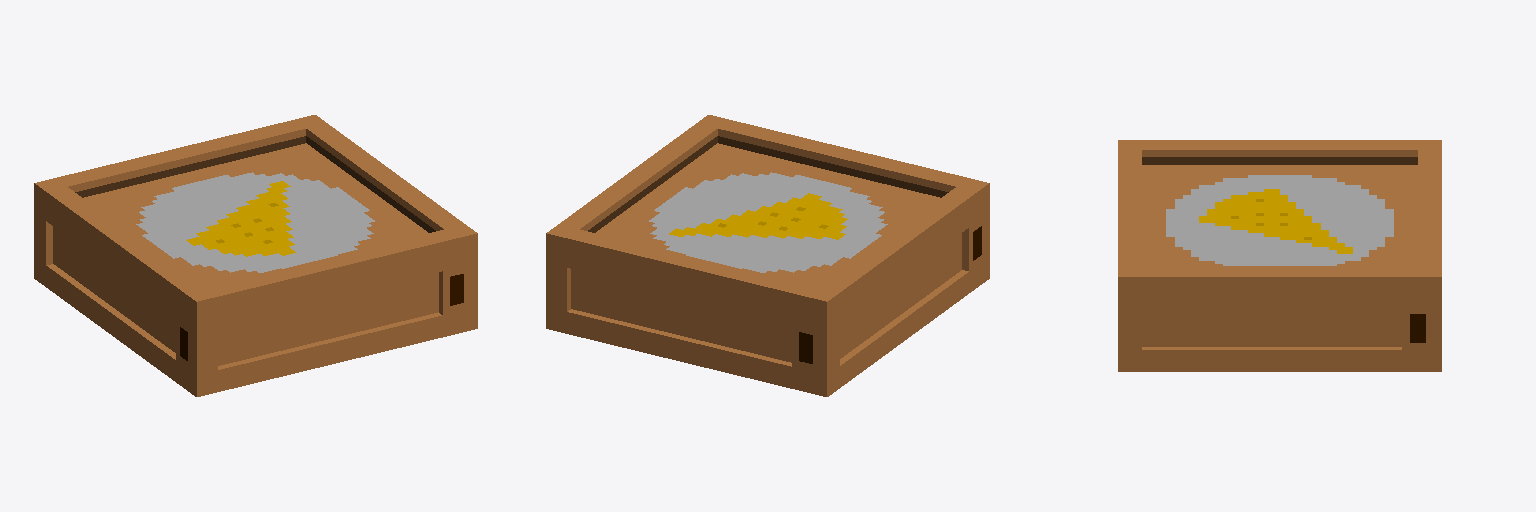
3 views of the same model, side by side, from view 1: azimuth 30°, elevation 25°; view 2: azimuth 150°, elevation 25°; view 3: azimuth 270°, elevation 25° (orthographic).
Parts seen in each view (by area): view 1: object 1; view 2: object 1; view 3: object 1.
Part boxes in pixels (bbox=[...]): object 1: bbox=[34, 115, 477, 396]; object 1: bbox=[546, 115, 989, 396]; object 1: bbox=[1118, 140, 1441, 371].
Size of the model in its own units: 4 by 1.3 by 4.
1 materials, 1 textured.